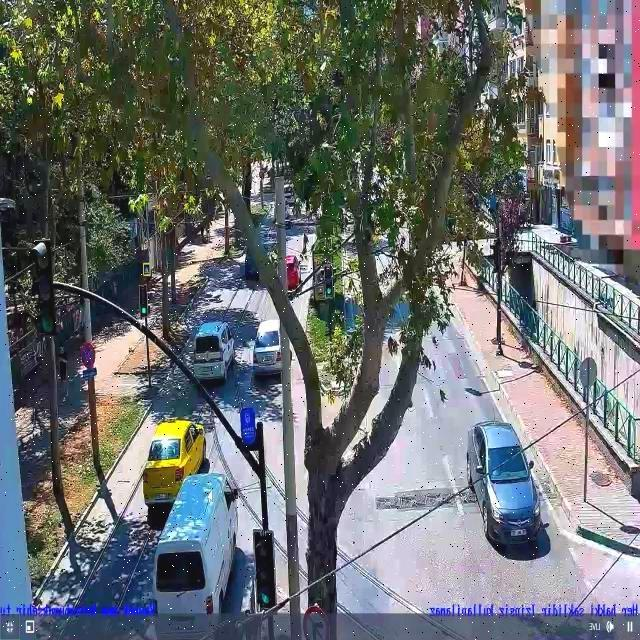Car: (467, 420, 542, 547), (144, 418, 208, 509), (251, 319, 288, 380), (285, 254, 302, 293)
Van: (152, 473, 240, 640), (192, 320, 236, 386)
